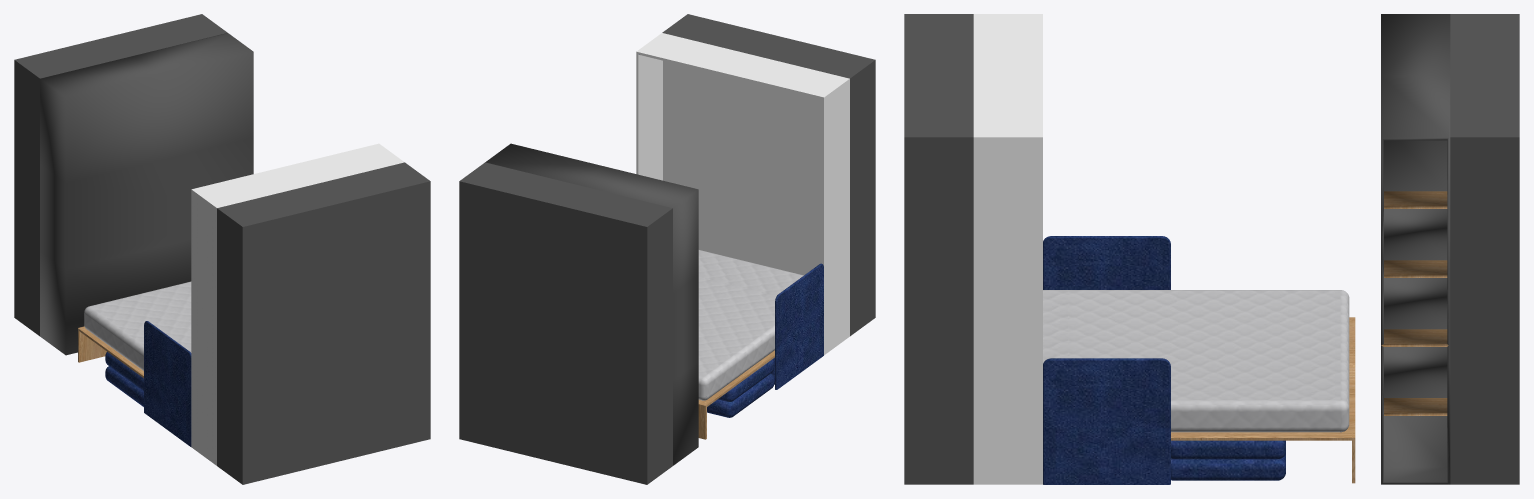
The model's file is kastm_bedm_kastm_kast.gltf.
3 views of the same model, side by side, from view 1: azimuth 30°, elevation 25°; view 2: azimuth 150°, elevation 25°; view 3: azimuth 270°, elevation 25° (orthographic). The views are drawn at different scales.
Parts seen in each view (by area): view 1: kastm_bedm_kastm_kast; view 2: kastm_bedm_kastm_kast; view 3: kastm_bedm_kastm_kast.
Part boxes in pixels (x1=…): kastm_bedm_kastm_kast: x1=14, y1=14, x2=430, y2=484; kastm_bedm_kastm_kast: x1=459, y1=14, x2=875, y2=484; kastm_bedm_kastm_kast: x1=904, y1=14, x2=1519, y2=484.
Size of the model in its own units: 1690 by 2211 by 3550.
Materials: 10 (6 with a texture image).
